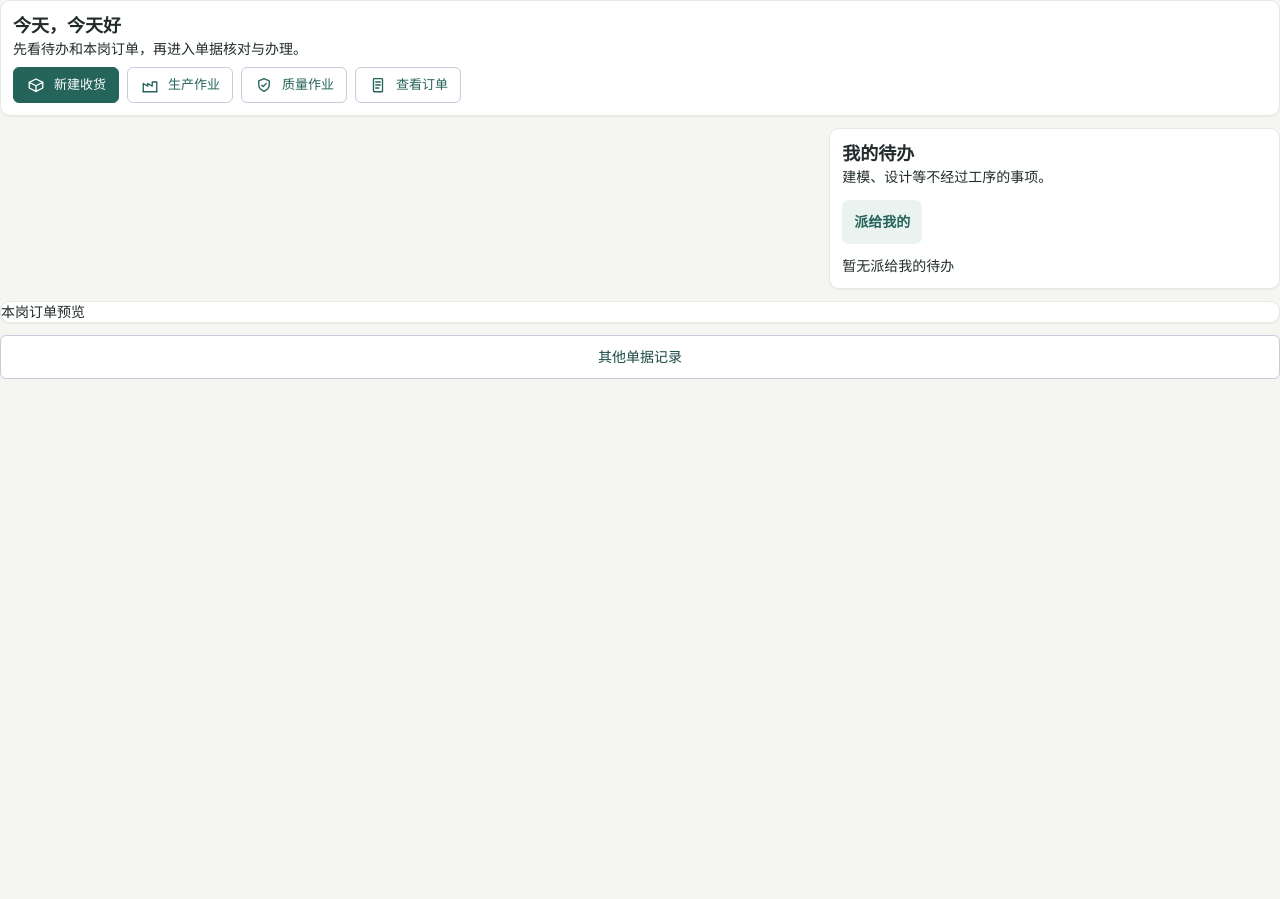
Scenario: M1Dashboard › 新首页默认收起旧单据列表，仍可按需恢复旧入口
Click the button with class "dashboard-history-toggle": (640, 357) [0,335,1279,379]
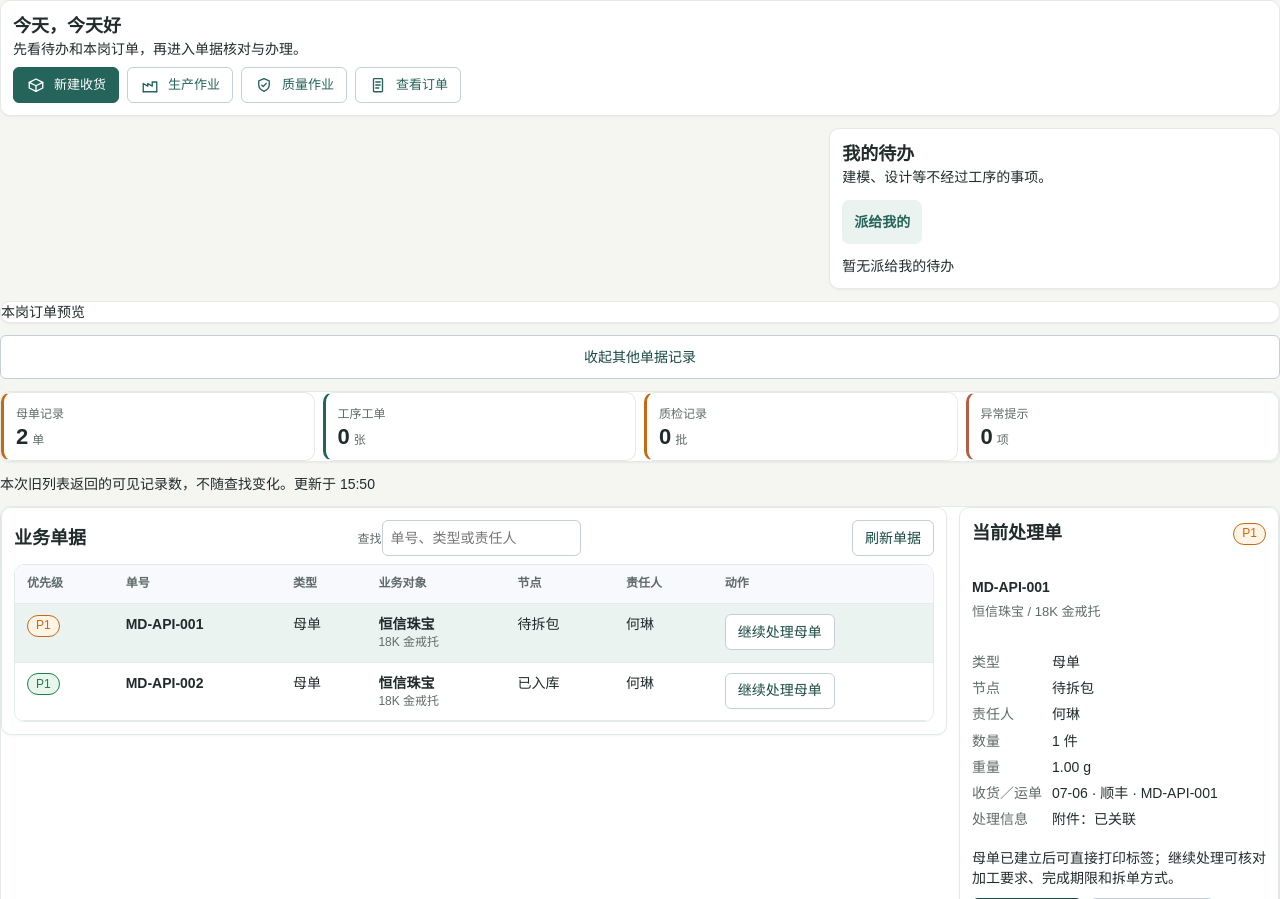
Result: the table with class "floor-dispatch-table" is shown at [15,566,933,721]
Result: the text "本次旧列表返回的可见记录数" is shown at [0,476,375,492]
